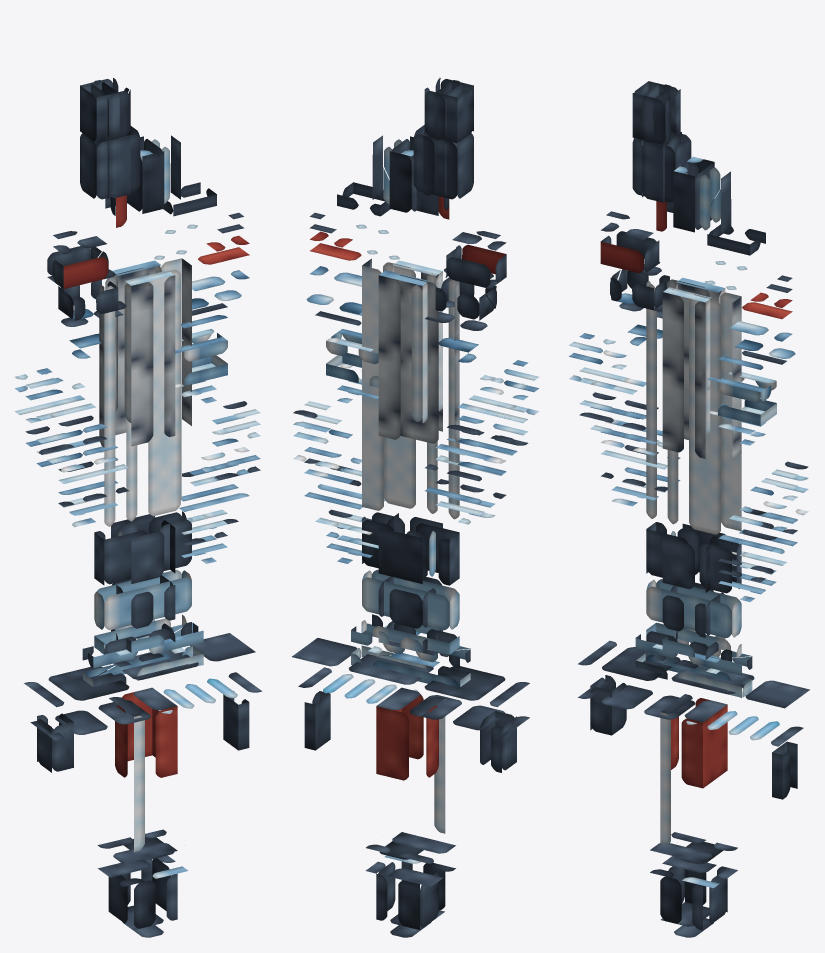
File: rime_sword.obj
3 views of the same model, side by side, from view 1: azimuth 30°, elevation 25°; view 2: azimuth 150°, elevation 25°; view 3: azimuth 330°, elevation 25° (orthographic). The views are drawn at different scales.
Visible parts, largest first — view 1: lit; view 2: lit; view 3: lit.
Boxes of the visible parts, x1=… form: lit: x1=15, y1=78, x2=262, y2=937; lit: x1=292, y1=77, x2=538, y2=937; lit: x1=569, y1=81, x2=809, y2=937.
Size of the model in its own units: 0.6562 by 2.5 by 0.1625.
